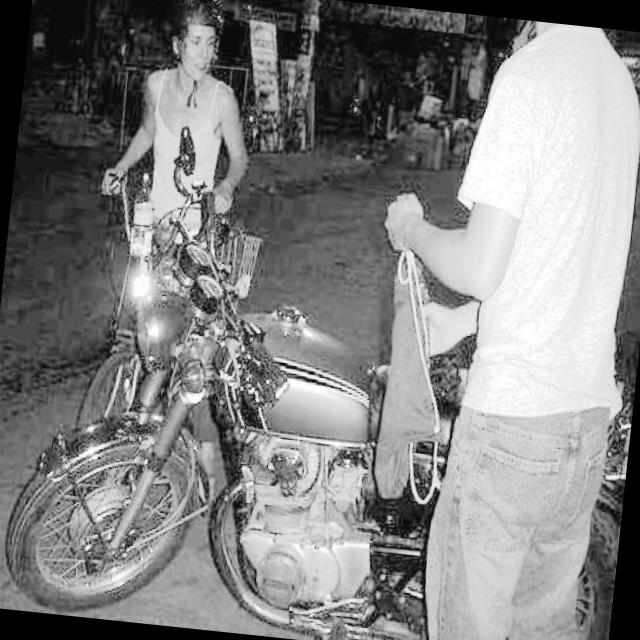Motorcycle: (30, 163, 640, 640)
